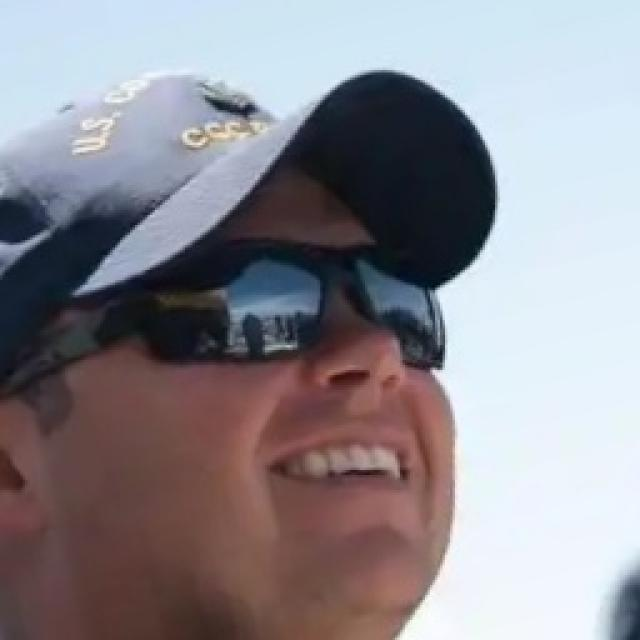glasses: (22, 236, 460, 394)
